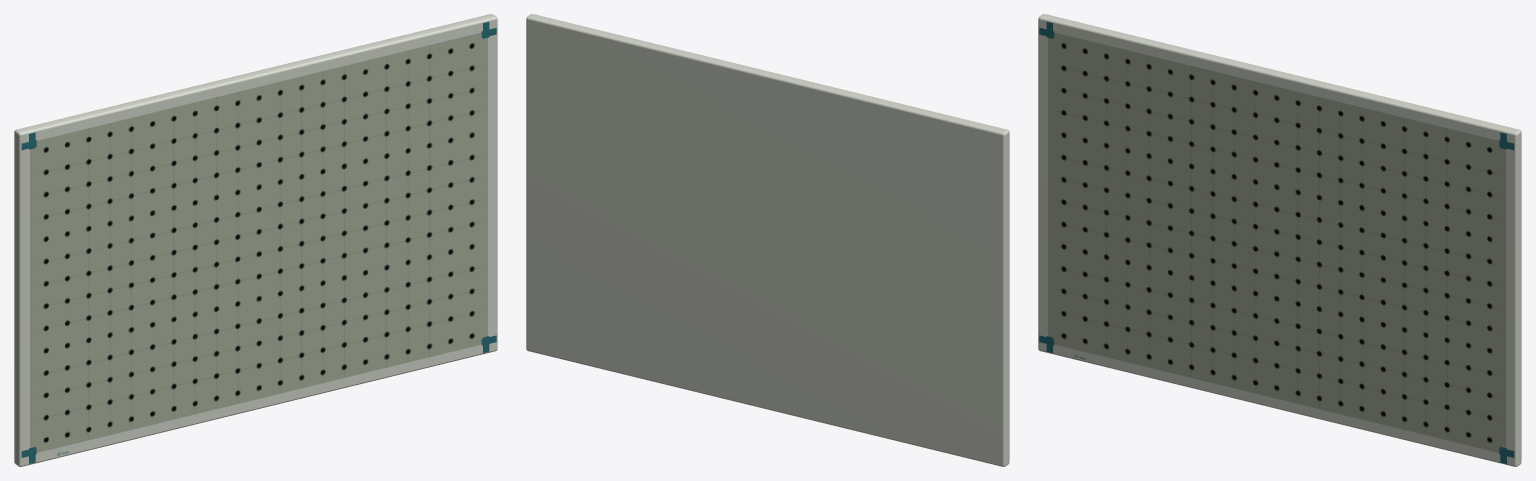
Rendered from VLAB_pegboard.fbx.
3 renders of one model, left to right at view 1: azimuth 30°, elevation 25°; view 2: azimuth 150°, elevation 25°; view 3: azimuth 330°, elevation 25°, orthographic.
Visible parts, largest first — view 1: VLAB_pegboard_GridTexture_VIS, VLAB_pegboard_Board_VIS, VLAB_pegboard_SocketGuides_VIS; view 2: VLAB_pegboard_Board_VIS; view 3: VLAB_pegboard_GridTexture_VIS, VLAB_pegboard_Board_VIS, VLAB_pegboard_SocketGuides_VIS.
Part boxes in pixels (left/top/right/bottom): VLAB_pegboard_GridTexture_VIS: left=30, top=32, right=487, bottom=452; VLAB_pegboard_Board_VIS: left=14, top=14, right=497, bottom=466; VLAB_pegboard_SocketGuides_VIS: left=21, top=22, right=496, bottom=463; VLAB_pegboard_Board_VIS: left=526, top=14, right=1009, bottom=466; VLAB_pegboard_GridTexture_VIS: left=1048, top=32, right=1505, bottom=452; VLAB_pegboard_Board_VIS: left=1038, top=14, right=1521, bottom=466; VLAB_pegboard_SocketGuides_VIS: left=1039, top=22, right=1514, bottom=463.
Bounding box in the file's own units: 0.45 × 0.3 × 0.0103.
